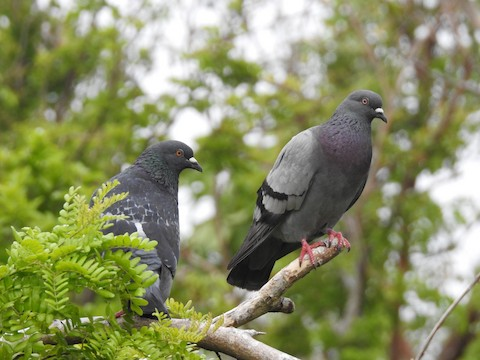pigeon: (221, 85, 390, 296), (55, 139, 208, 332)
